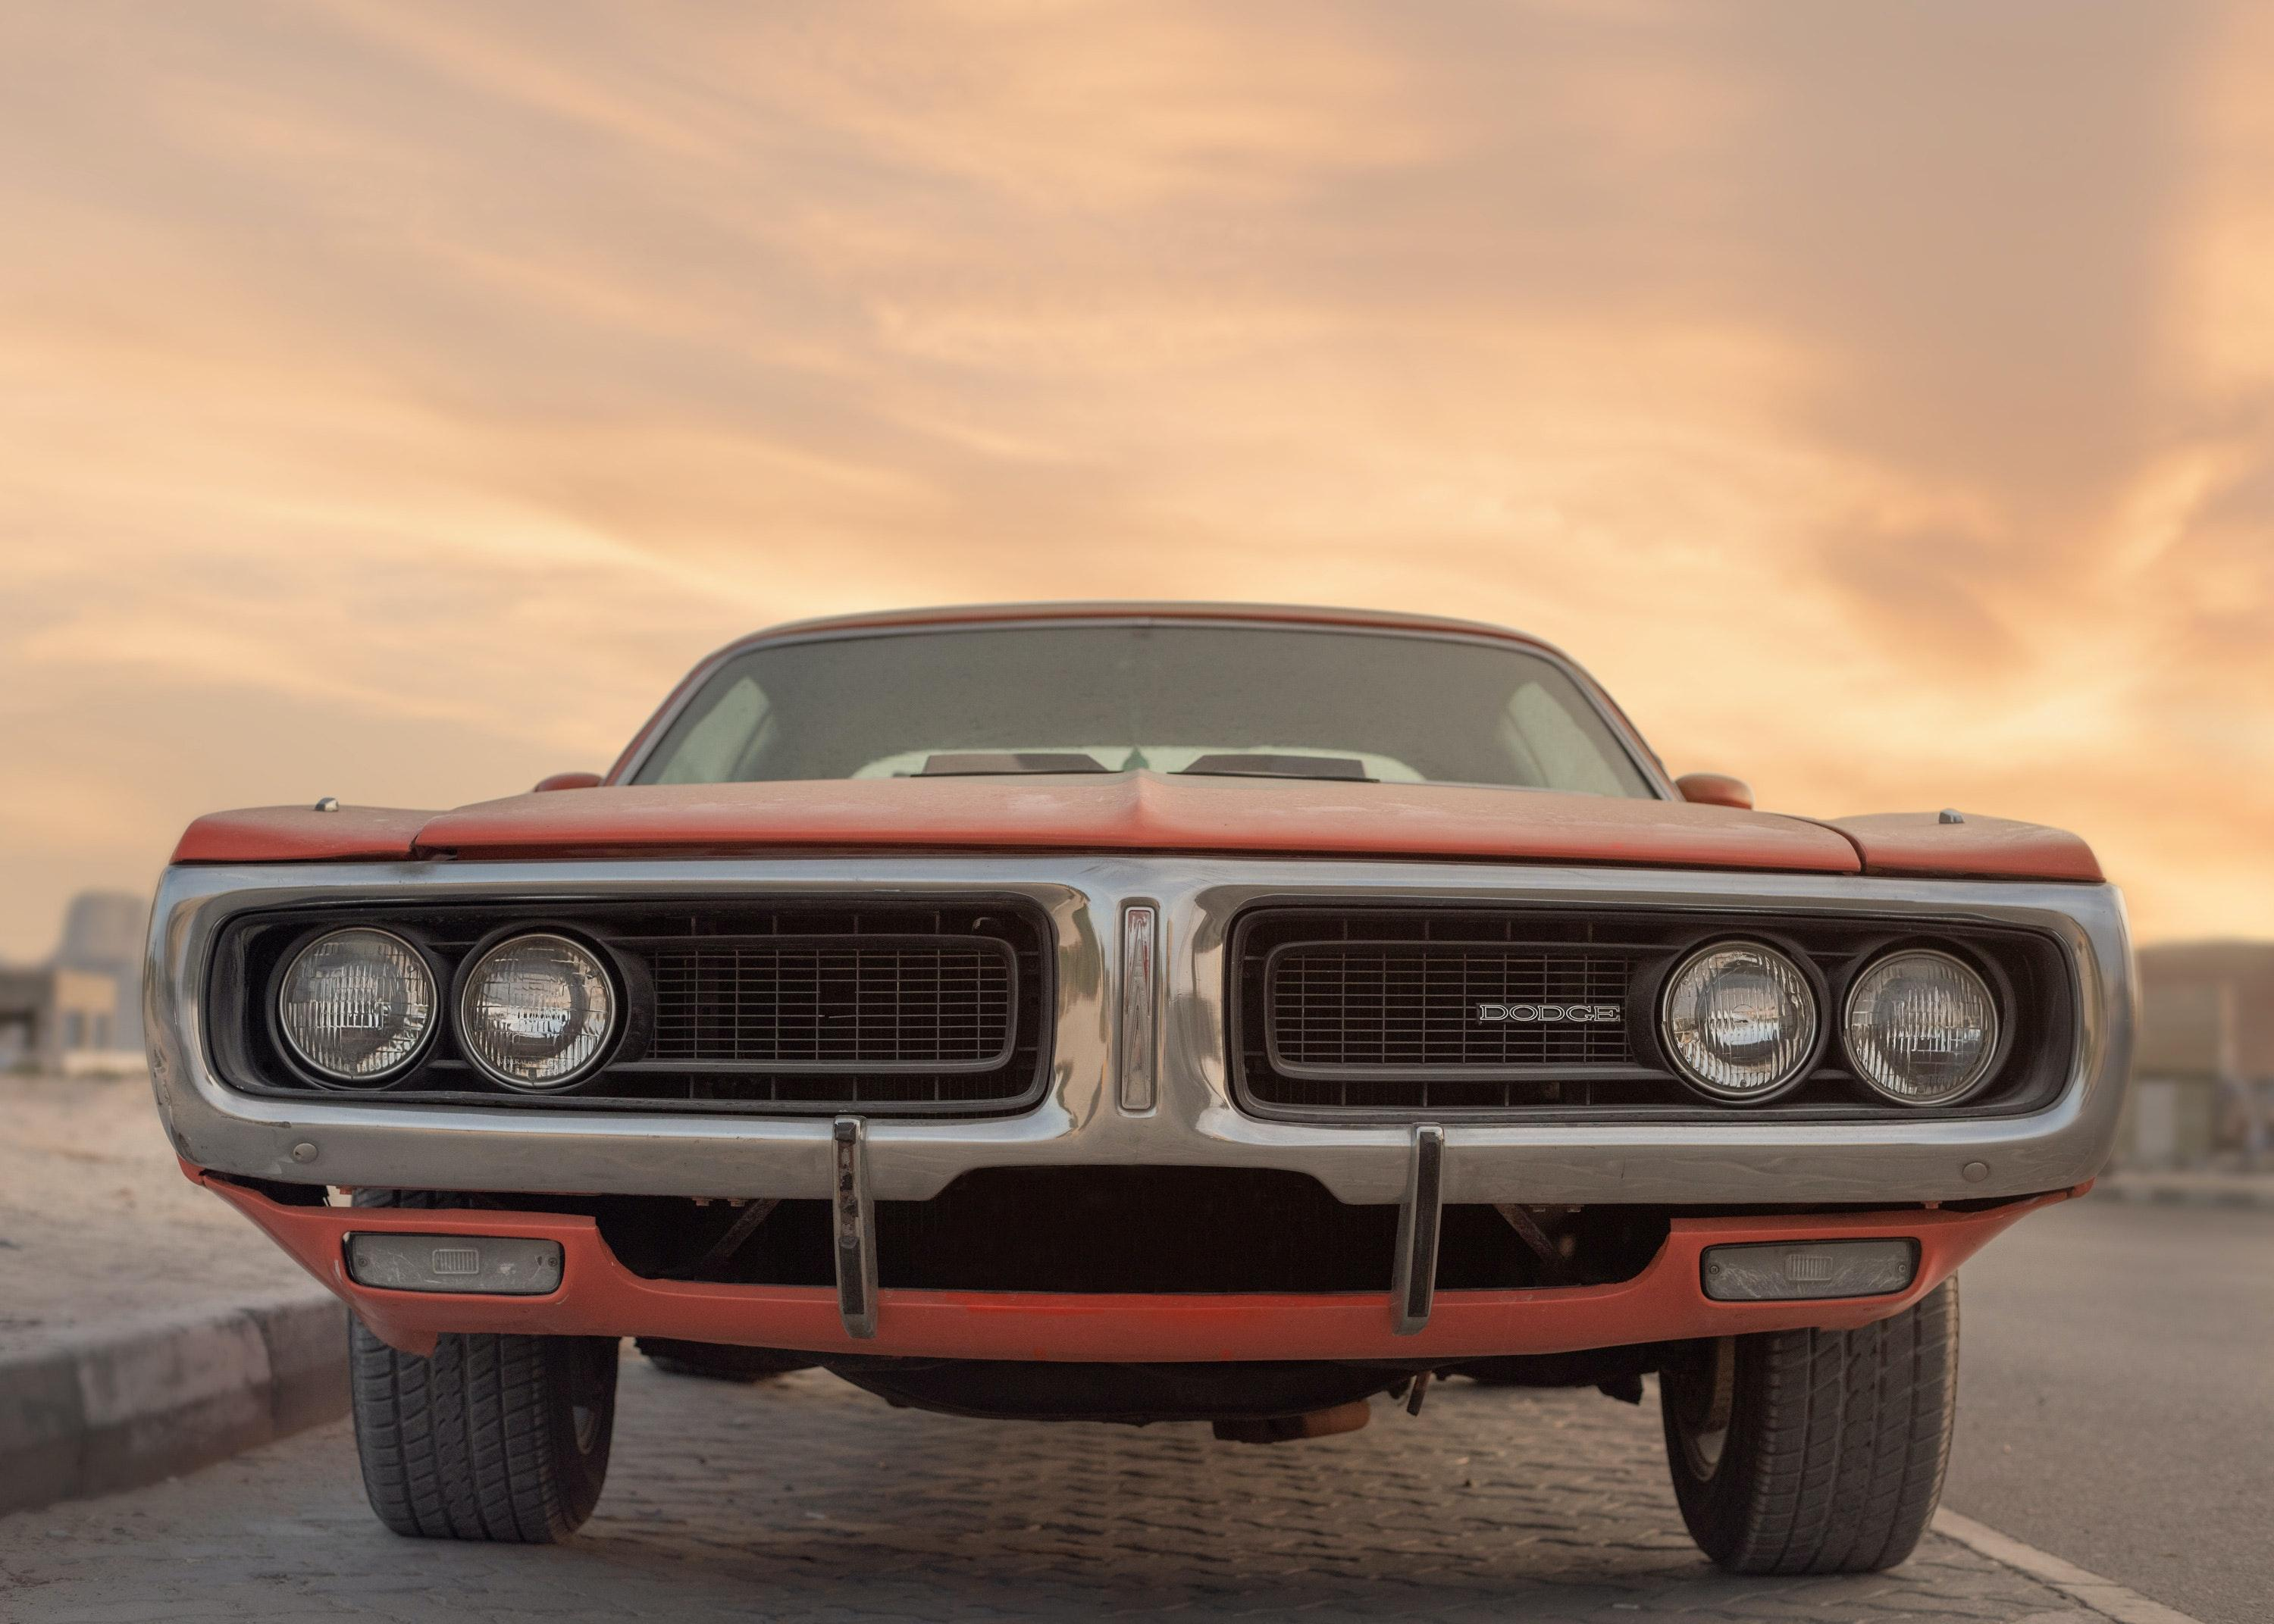dodge: (1465, 975, 1633, 1047)
